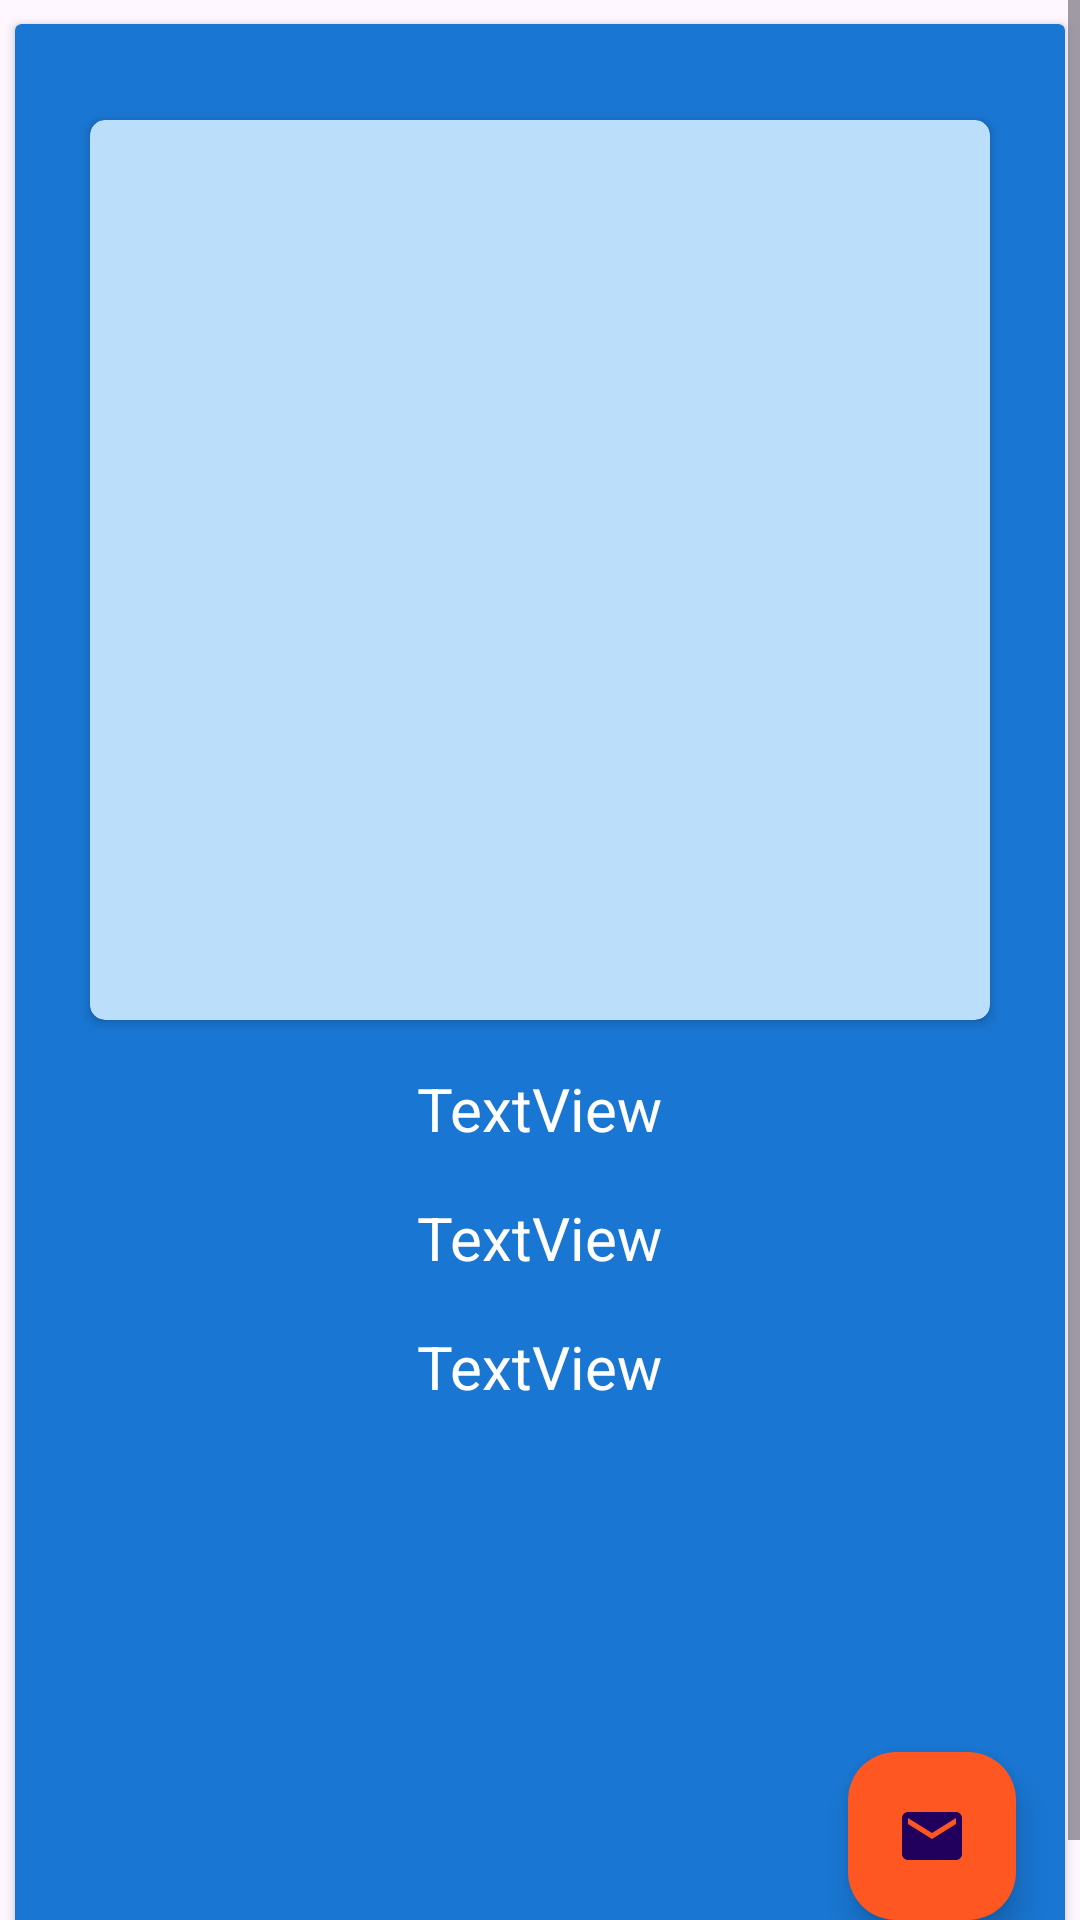

Named icons in this screenshot (1080px x 1920px) and their bounding boxes, rect(x1, y1, x2, y2):
email: rect(848, 1752, 1016, 1920)
